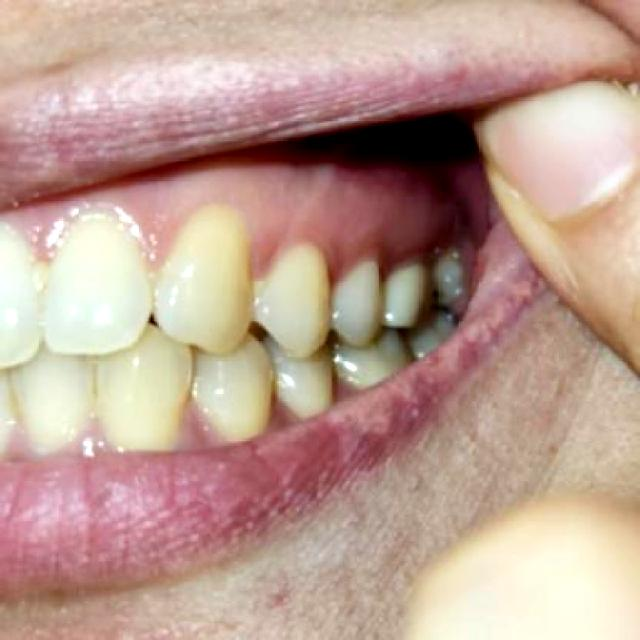Plaque: (31, 193, 183, 298), (252, 229, 342, 293), (10, 410, 112, 462), (172, 398, 229, 451)
